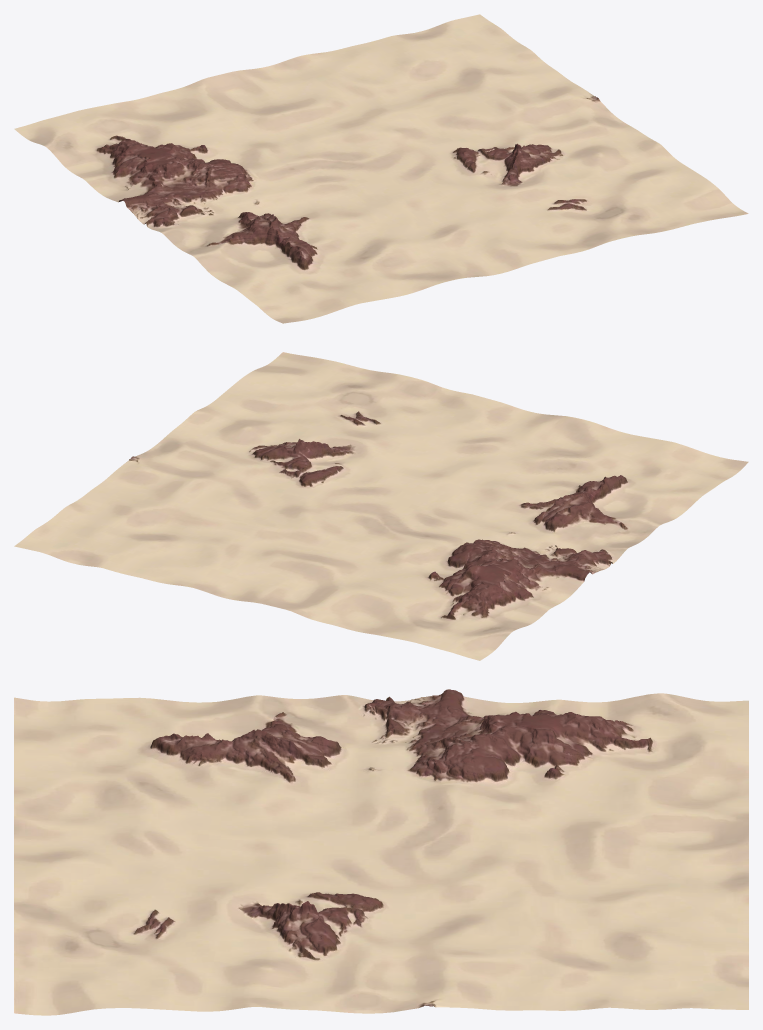
Rendered from terrain.glb.
3 renders of one model, top to bottom at view 1: azimuth 30°, elevation 25°; view 2: azimuth 150°, elevation 25°; view 3: azimuth 270°, elevation 25°, orthographic. The views are drawn at different scales.
Parts seen in each view (by area): view 1: ch1terrain; view 2: ch1terrain; view 3: ch1terrain.
Part boxes in pixels (x1,y1,x2,y2): ch1terrain: (14,14,748,323); ch1terrain: (14,352,748,660); ch1terrain: (14,689,748,1015).
Size of the model in its own units: 620 by 29.54 by 620.
1 material, 1 textured.
